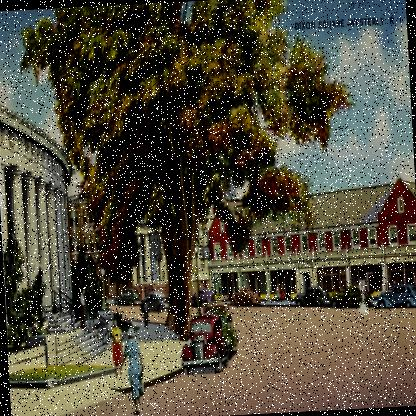Car: (180, 314, 229, 376), (202, 301, 238, 352), (372, 281, 415, 311), (231, 289, 259, 307), (114, 288, 140, 306), (142, 294, 168, 312), (190, 292, 215, 308)
